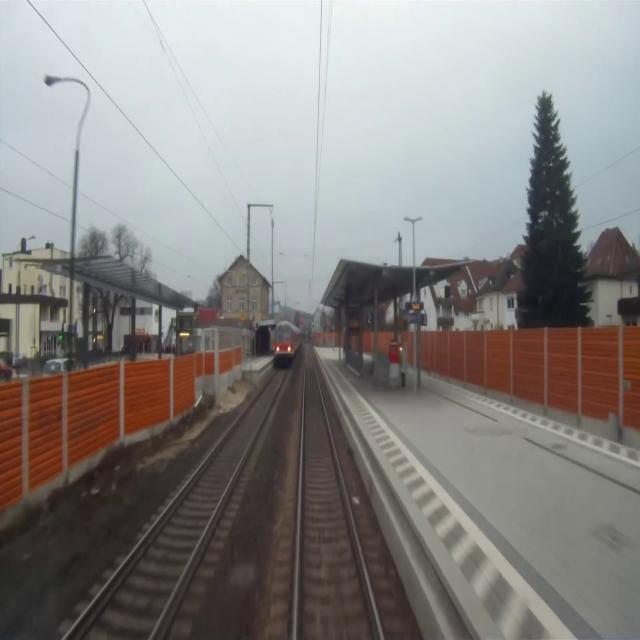rail-track: (69, 367, 286, 639), (297, 344, 380, 639)
